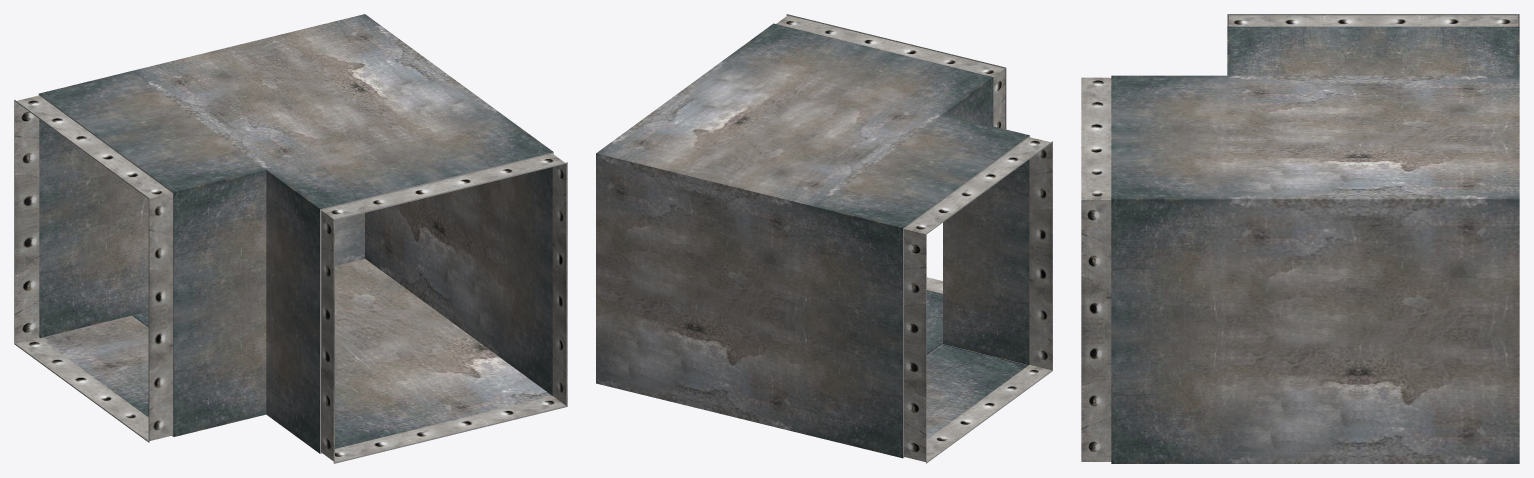
The model's file is vent04.fbx.
3 views of the same model, side by side, from view 1: azimuth 30°, elevation 25°; view 2: azimuth 150°, elevation 25°; view 3: azimuth 270°, elevation 25° (orthographic). The views are drawn at different scales.
Parts seen in each view (by area): view 1: polySurface1; view 2: polySurface1; view 3: polySurface1.
Boxes of the visible parts, x1,y1,x2,y2 form: polySurface1: (14, 14, 567, 463); polySurface1: (596, 14, 1052, 463); polySurface1: (1081, 14, 1519, 463).
Size of the model in its own units: 1.5 by 1 by 1.5.
